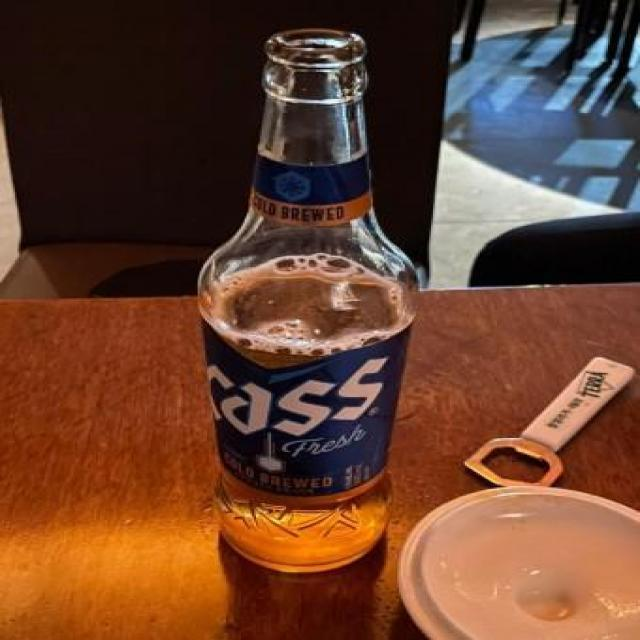beer-bottle: (197, 24, 434, 581)
